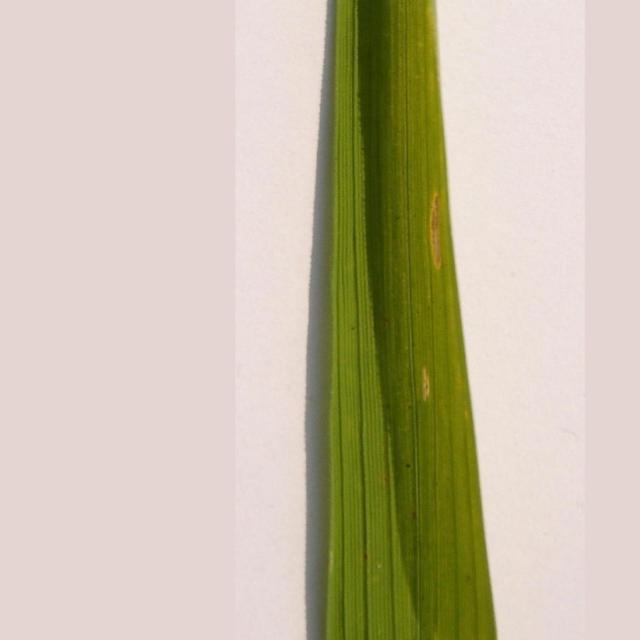Bacterial leaf blight: (418, 163, 454, 283), (405, 360, 446, 417)
